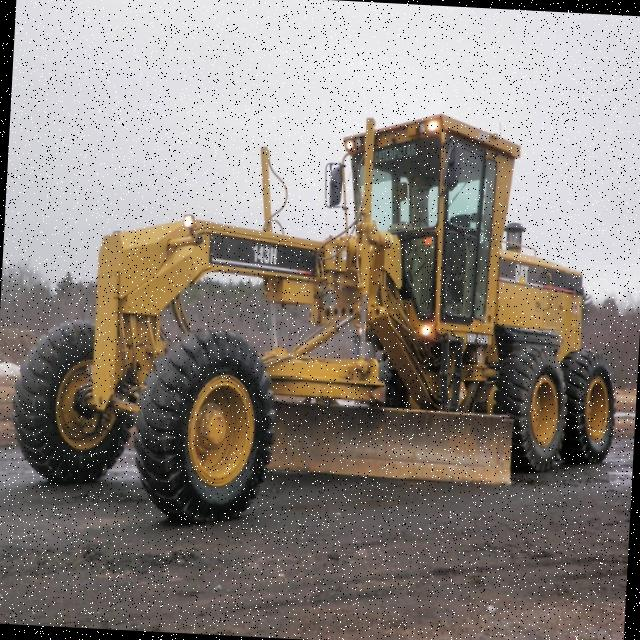Grader: (11, 76, 640, 542)
